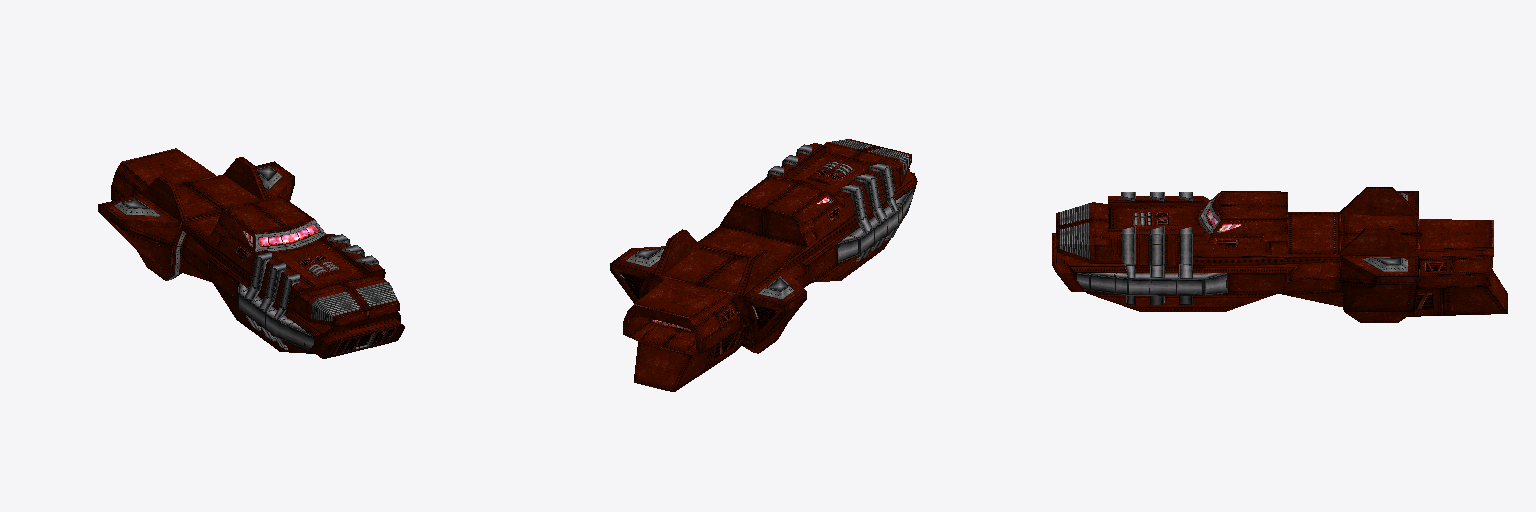
3 renders of one model, left to right at view 1: azimuth 30°, elevation 25°; view 2: azimuth 150°, elevation 25°; view 3: azimuth 270°, elevation 25°, orthographic.
Visible parts, largest first — view 1: Lightning_Chasis_C; view 2: Lightning_Chasis_C; view 3: Lightning_Chasis_C.
Part boxes in pixels (bbox=[...]): Lightning_Chasis_C: bbox=[98, 148, 404, 358]; Lightning_Chasis_C: bbox=[610, 139, 917, 391]; Lightning_Chasis_C: bbox=[1052, 187, 1507, 322].
Bounding box in the file's own units: 1.92 × 1.06 × 4.32.
4 materials, 3 textured.